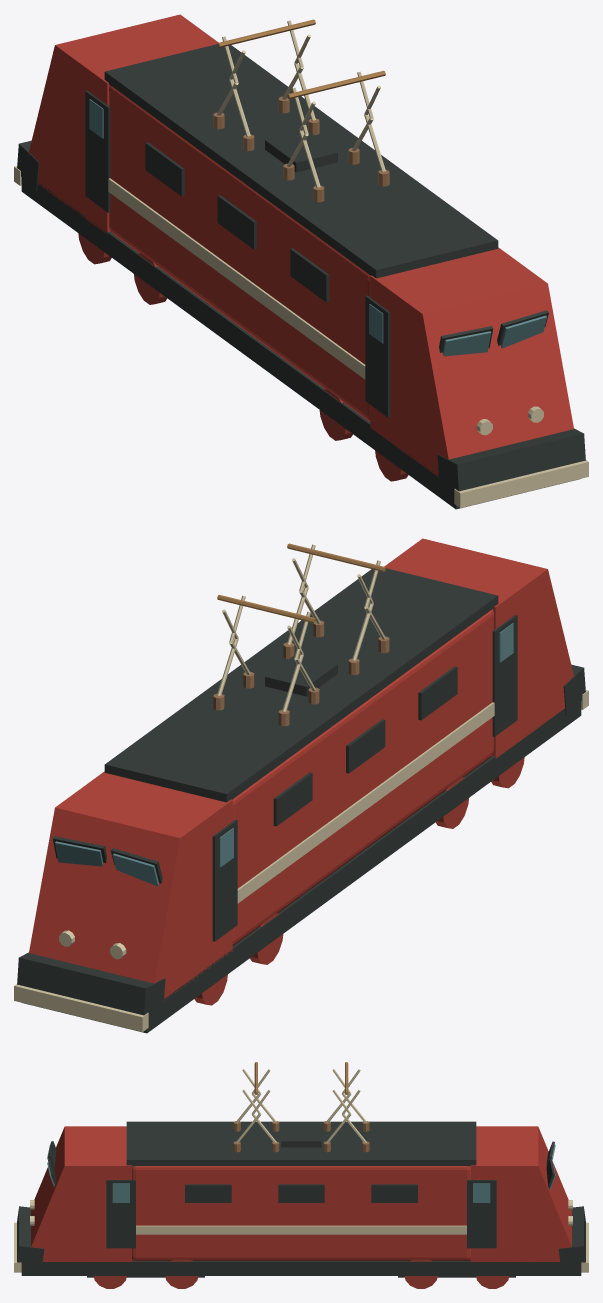
File: nord-el-18_lod0.glb
3 views of the same model, one above another, from view 1: azimuth 30°, elevation 25°; view 2: azimuth 150°, elevation 25°; view 3: azimuth 270°, elevation 25° (orthographic). The views are drawn at different scales.
Parts seen in each view (by area): view 1: RF_El18_Roof, RF_El18_Body, RF_El18_StreamlinedCab.001, RF_El18_StreamlinedCab, RF_El18_Chassis, RF_El18_LowerSkirt.001, RF_El18_SilverBand.001, RF_El18_BufferBeam.001, RF_El18_CabDoor.002, RF_El18_CabDoor.001, RF_El18_RoofEquipment, RF_El18_Intake.002 (+5 smaller); view 2: RF_El18_Roof, RF_El18_Body, RF_El18_StreamlinedCab, RF_El18_StreamlinedCab.001, RF_El18_Chassis, RF_El18_LowerSkirt, RF_El18_SilverBand.001, RF_El18_BufferBeam, RF_El18_CabDoor.001, RF_El18_CabDoor.002, RF_El18_RoofEquipment, RF_El18_Intake.002 (+5 smaller); view 3: RF_El18_Body, RF_El18_Roof, RF_El18_StreamlinedCab.001, RF_El18_StreamlinedCab, RF_El18_Chassis, RF_El18_SilverBand, RF_El18_CabDoor.003, RF_El18_CabDoor, RF_El18_LowerSkirt.001, RF_El18_LowerSkirt, RF_El18_Intake.004, RF_El18_Intake.005 (+8 smaller).
Boxes of the visible parts, left/top/right/bottom form: RF_El18_Roof: left=104, top=44, right=498, bottom=278; RF_El18_Body: left=109, top=85, right=370, bottom=421; RF_El18_StreamlinedCab.001: left=370, top=247, right=573, bottom=477; RF_El18_StreamlinedCab: left=29, top=14, right=218, bottom=234; RF_El18_Chassis: left=21, top=177, right=579, bottom=509; RF_El18_LowerSkirt.001: left=437, top=428, right=585, bottom=493; RF_El18_SilverBand.001: left=108, top=178, right=365, bottom=379; RF_El18_BufferBeam.001: left=454, top=460, right=588, bottom=507; RF_El18_CabDoor.002: left=85, top=90, right=110, bottom=212; RF_El18_CabDoor.001: left=365, top=295, right=390, bottom=417; RF_El18_RoofEquipment: left=265, top=131, right=337, bottom=172; RF_El18_Intake.002: left=217, top=195, right=256, bottom=249; RF_El18_Roof: left=104, top=568, right=498, bottom=802; RF_El18_Body: left=232, top=609, right=493, bottom=945; RF_El18_StreamlinedCab: left=29, top=771, right=232, bottom=1001; RF_El18_StreamlinedCab.001: left=384, top=538, right=573, bottom=758; RF_El18_Chassis: left=23, top=701, right=581, bottom=1033; RF_El18_LowerSkirt: left=17, top=952, right=165, bottom=1017; RF_El18_SilverBand.001: left=237, top=702, right=494, bottom=903; RF_El18_BufferBeam: left=14, top=984, right=148, bottom=1031; RF_El18_CabDoor.001: left=492, top=614, right=517, bottom=736; RF_El18_CabDoor.002: left=212, top=819, right=237, bottom=941; RF_El18_RoofEquipment: left=265, top=655, right=337, bottom=696; RF_El18_Intake.002: left=346, top=719, right=385, bottom=773; RF_El18_Body: left=132, top=1166, right=470, bottom=1260; RF_El18_Roof: left=126, top=1121, right=476, bottom=1166; RF_El18_StreamlinedCab.001: left=31, top=1126, right=131, bottom=1261; RF_El18_StreamlinedCab: left=471, top=1126, right=571, bottom=1262; RF_El18_Chassis: left=21, top=1260, right=581, bottom=1275; RF_El18_SilverBand: left=136, top=1225, right=466, bottom=1234; RF_El18_CabDoor.003: left=106, top=1179, right=135, bottom=1248; RF_El18_CabDoor: left=467, top=1179, right=496, bottom=1248; RF_El18_LowerSkirt.001: left=17, top=1206, right=44, bottom=1268; RF_El18_LowerSkirt: left=558, top=1206, right=585, bottom=1268; RF_El18_Intake.004: left=185, top=1184, right=231, bottom=1202; RF_El18_Intake.005: left=278, top=1184, right=324, bottom=1202.
Size of the model in its own units: 3.14 by 6.82 by 18.5.
